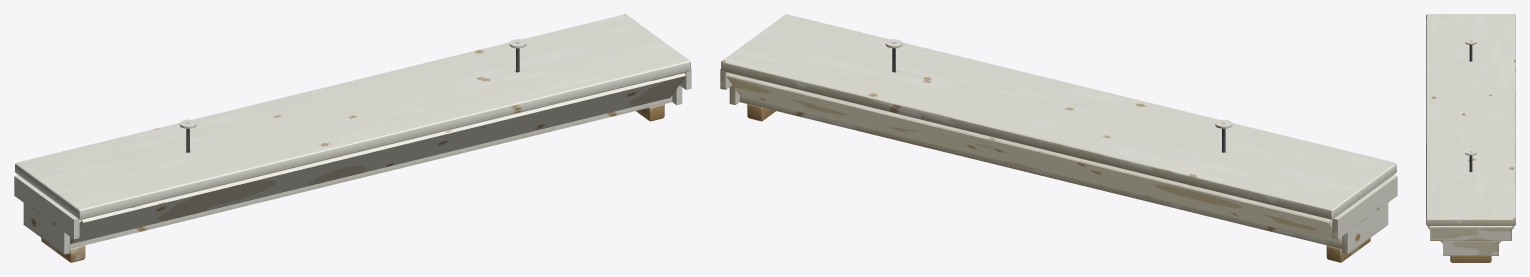
Rendered from gk_fluoro.glb.
The picture shows the model from 3 angles, left to right: view 1: azimuth 30°, elevation 25°; view 2: azimuth 150°, elevation 25°; view 3: azimuth 270°, elevation 25°; orthographic projection. The views are drawn at different scales.
Parts seen in each view (by area): view 1: mesh; view 2: mesh; view 3: mesh.
Boxes of the visible parts, left/top/right/bottom form: mesh: left=14, top=14, right=691, bottom=262; mesh: left=720, top=14, right=1397, bottom=262; mesh: left=1426, top=14, right=1515, bottom=262.
Bounding box in the file's own units: 1.31 × 0.198 × 0.2399.
Materials: 1 (1 with a texture image).
